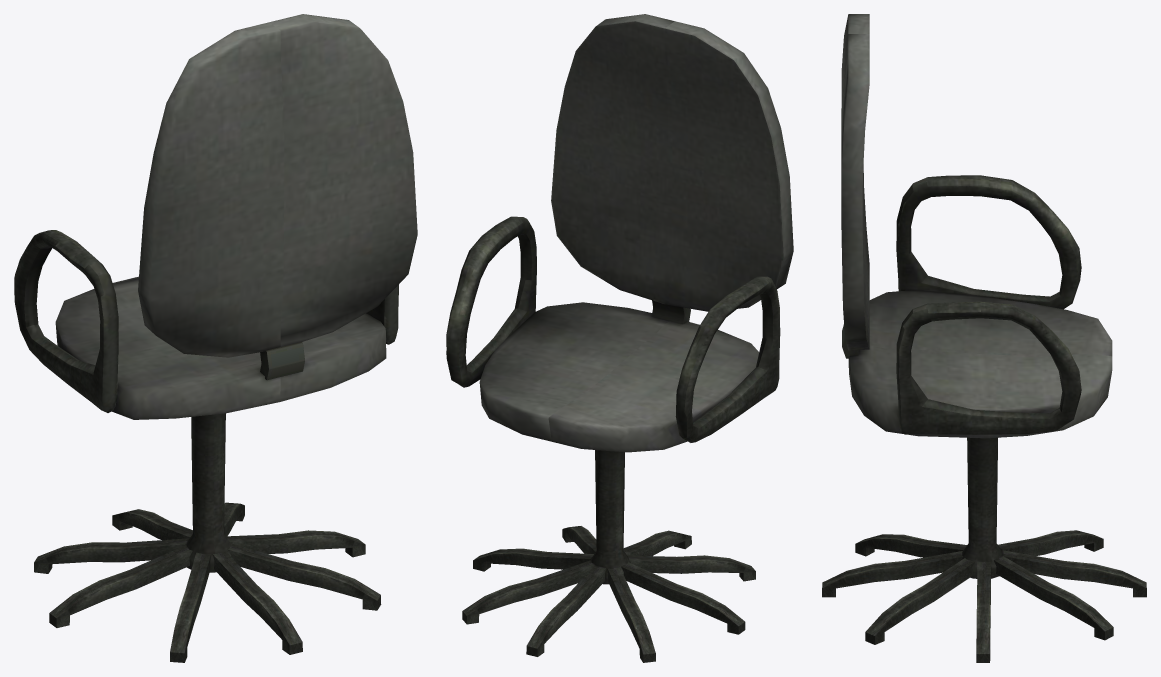
File: officeseat_a.fbx
The picture shows the model from 3 angles, left to right: view 1: azimuth 30°, elevation 25°; view 2: azimuth 150°, elevation 25°; view 3: azimuth 270°, elevation 25°; orthographic projection. The views are drawn at different scales.
Visible parts, largest first — view 1: Scene_Root; view 2: Scene_Root; view 3: Scene_Root.
Part boxes in pixels (box(x1,y1,x2,y2)): Scene_Root: box(14, 14, 417, 662); Scene_Root: box(446, 14, 793, 662); Scene_Root: box(822, 14, 1146, 662).
Size of the model in its own units: 24.53 by 46.45 by 24.41.
